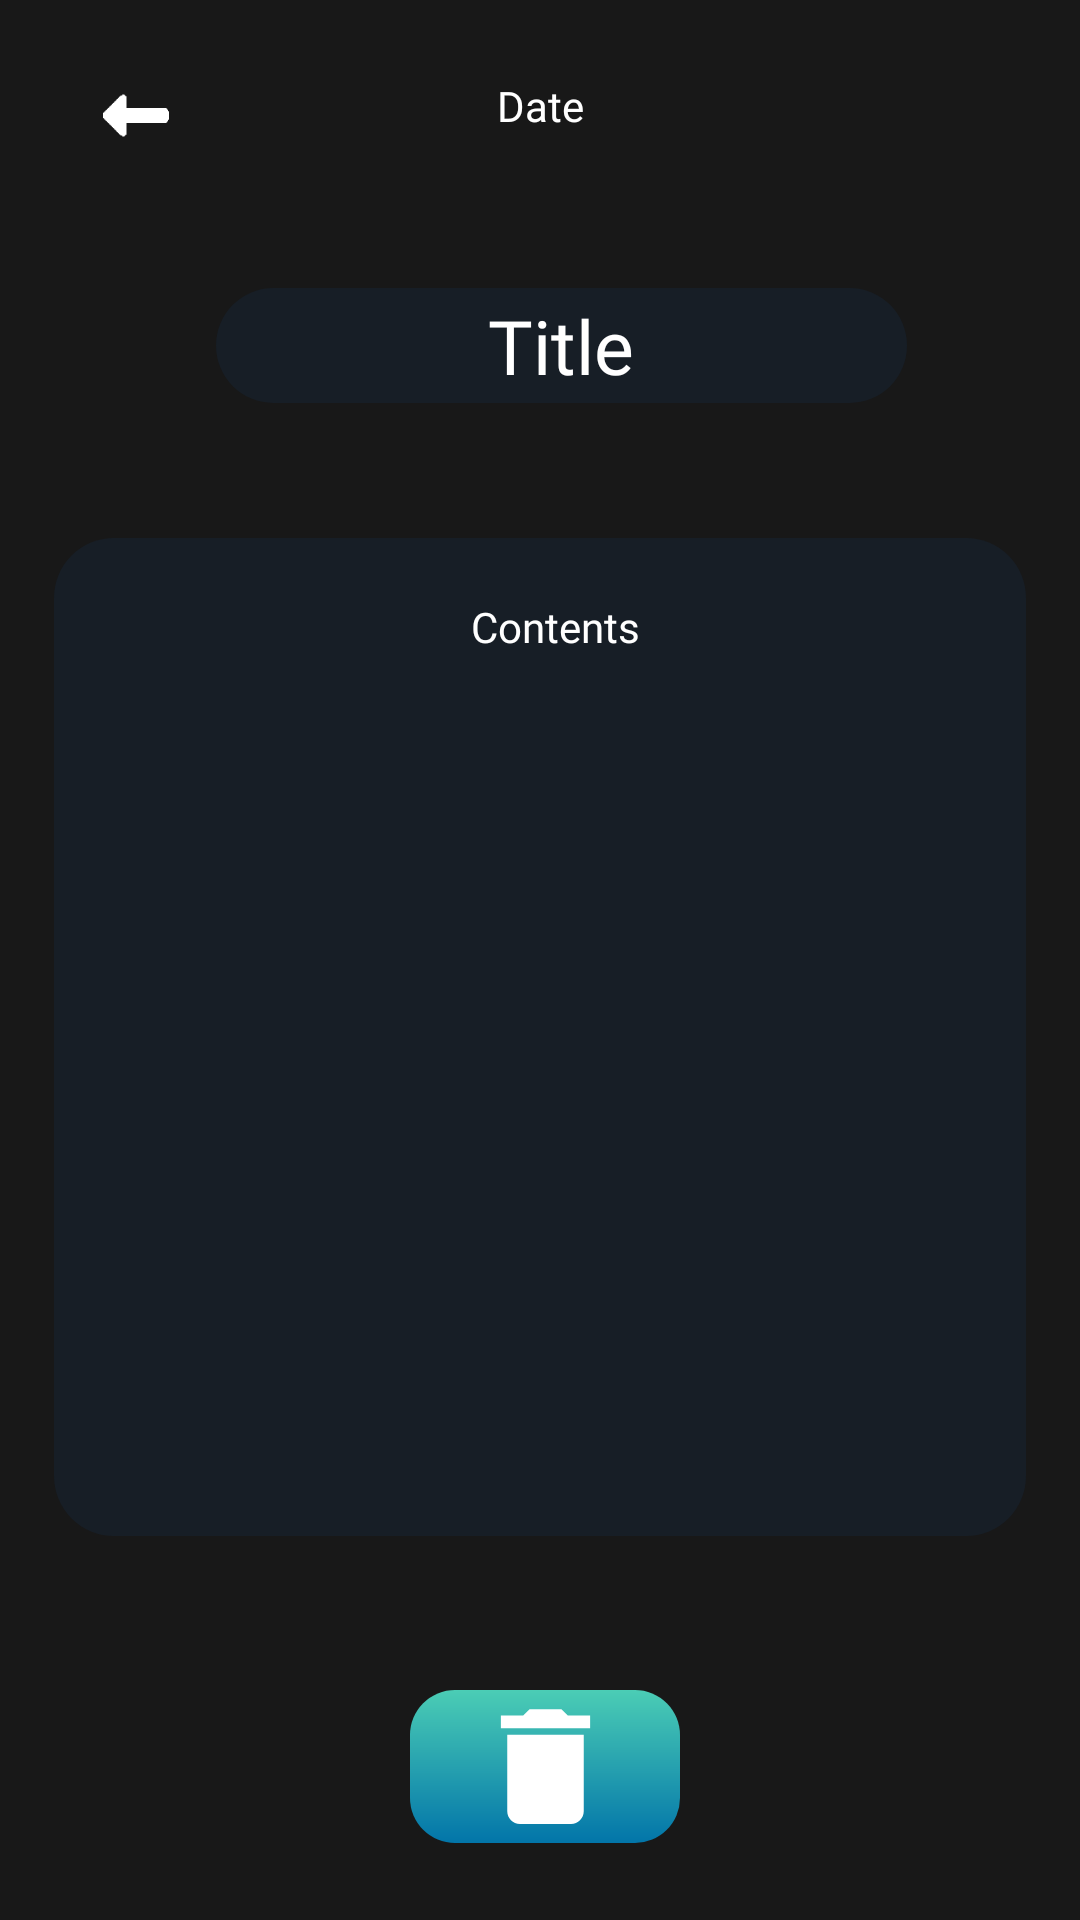

Point at icon controls on the screen. Image size 1080 x 1920, points as (x,y).
btnback: (136,115)
delete: (545,1766)
